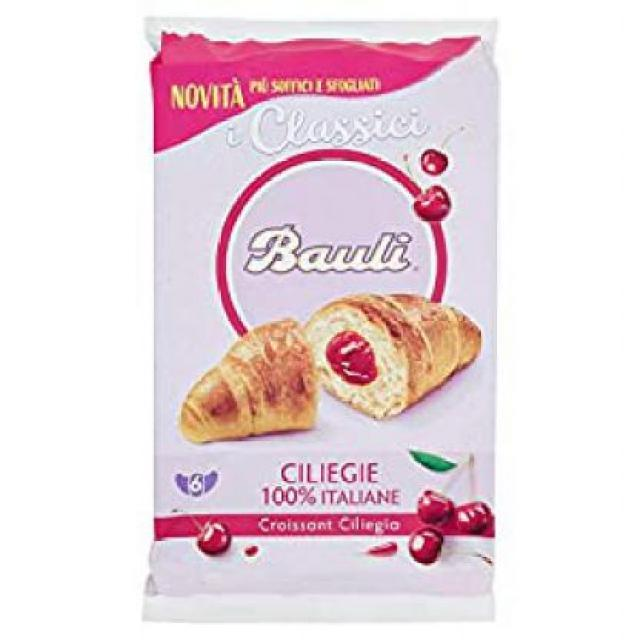Merendine: (128, 12, 504, 626)
